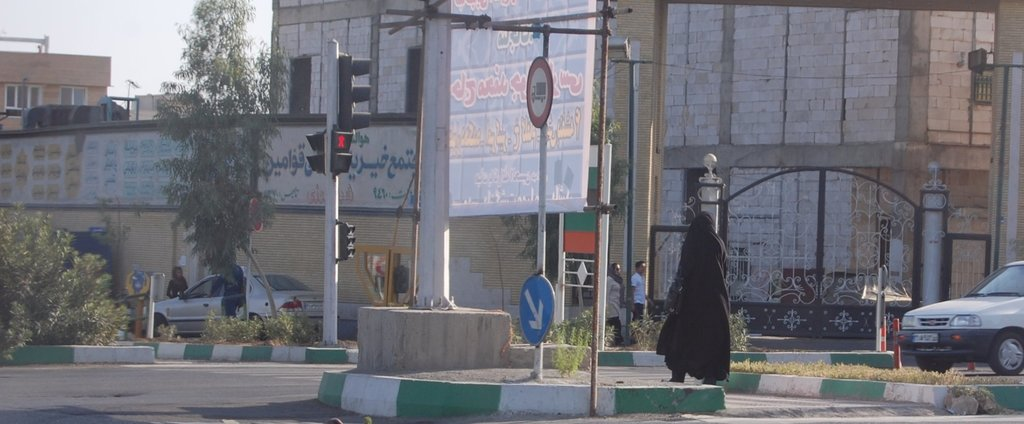Tree: (136, 16, 278, 326), (504, 0, 631, 307)
